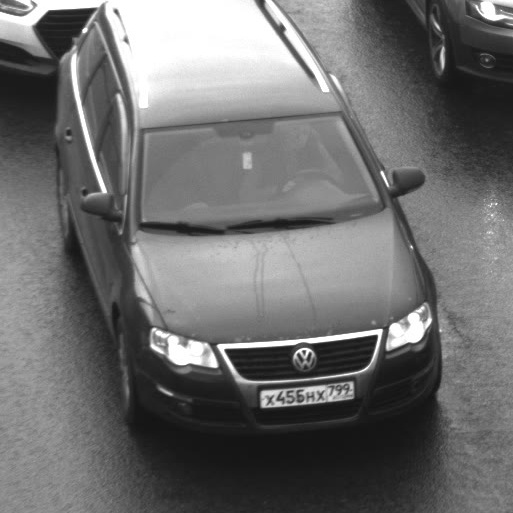plate: (249, 370, 365, 416)
